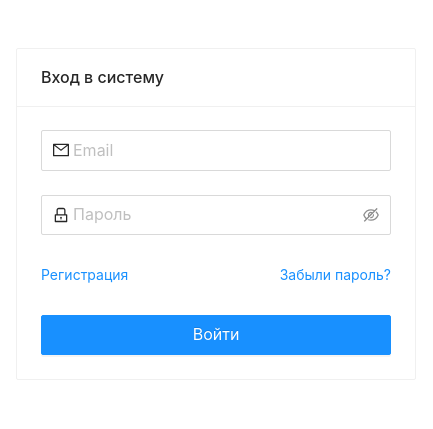
Login form › Should show error message if wrong credentials given
The width and height of the screenshot is (433, 429).
Type "usermail@gmail.com" into the field with placeholder "Email" at {"x": 226, "y": 150}, box [73,138,379,163]
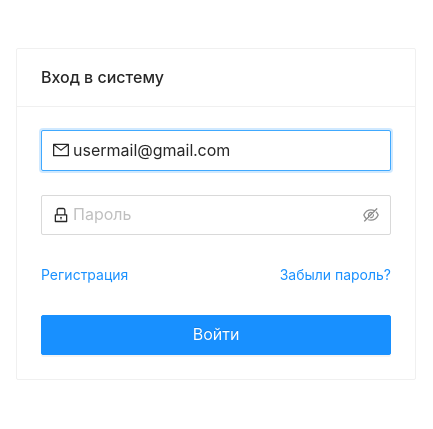
Type "2M8N3b3d3E" into the password field with placeholder "Пароль" at {"x": 216, "y": 215}, box [73,202,359,227]
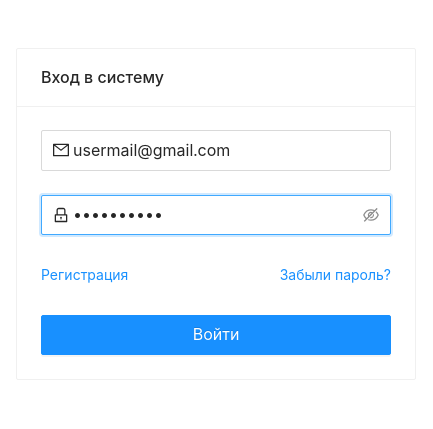
Click the button at {"x": 216, "y": 335}, box [41,315,391,355]
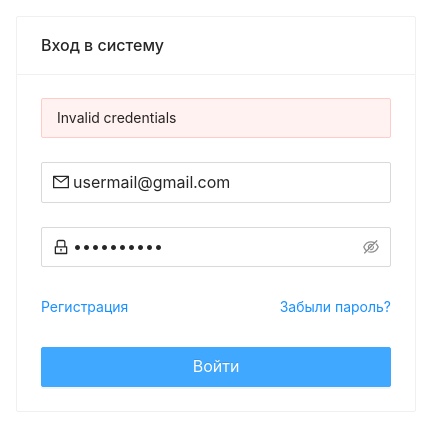
Now the message reads "Invalid credentials", box [57,109,176,126]
